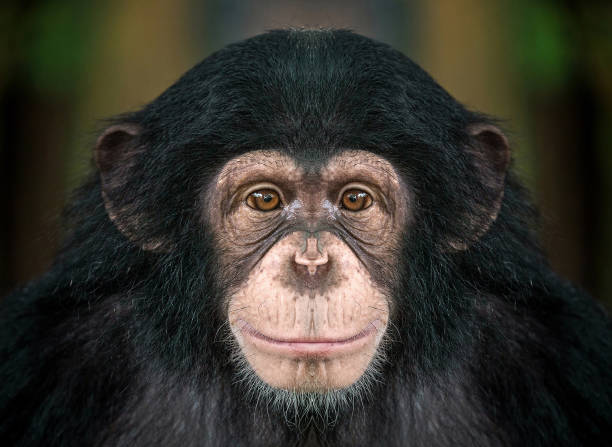chimpanzee: (19, 7, 587, 447)
